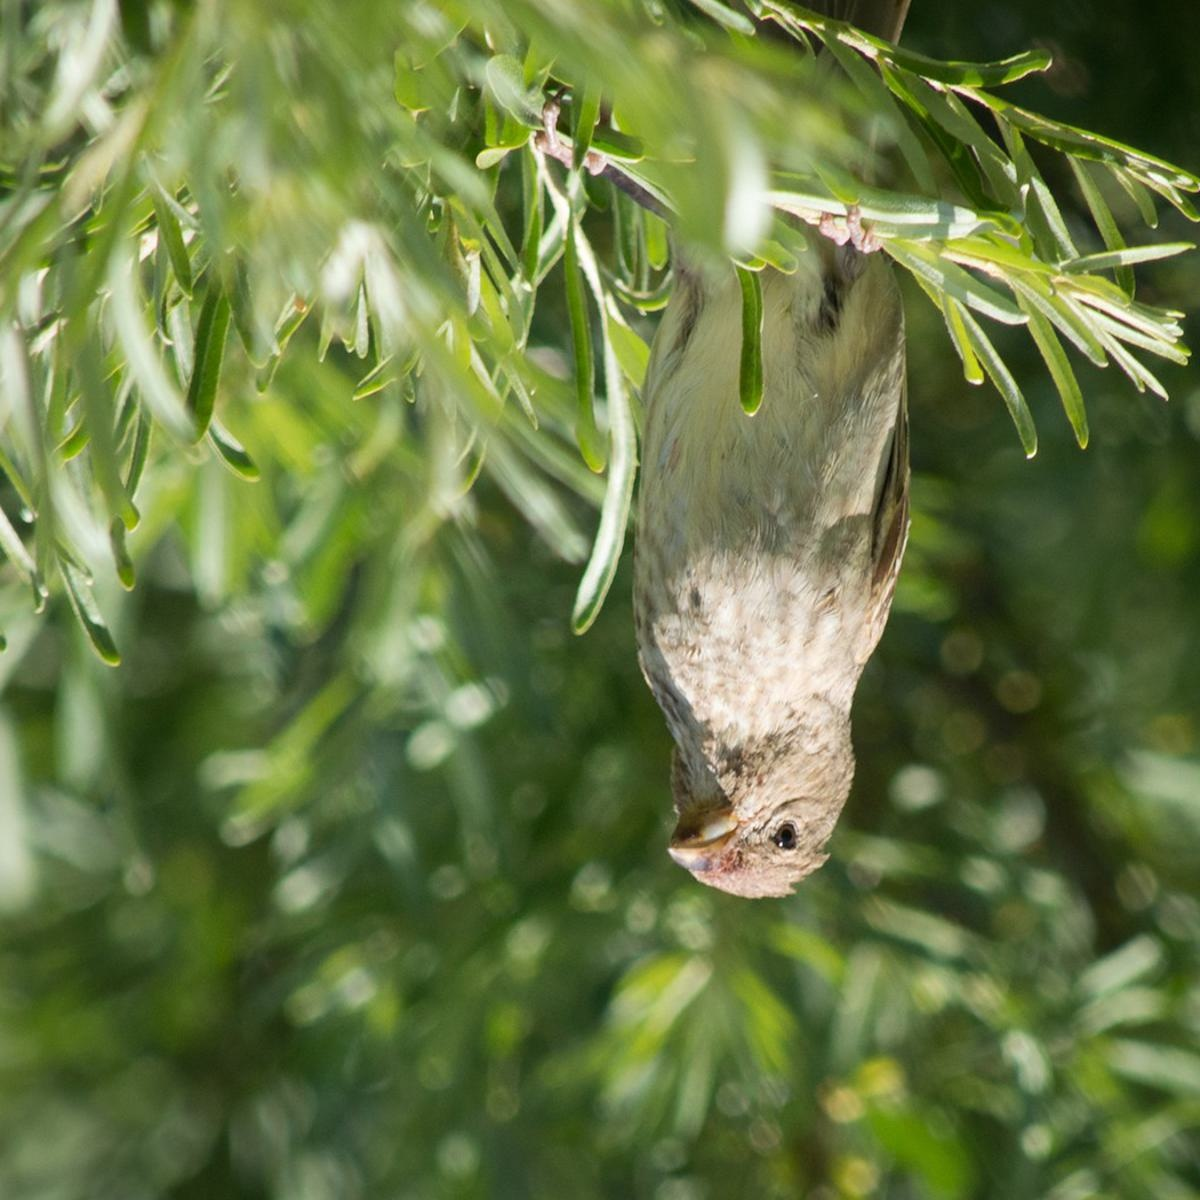rosefinch: (607, 196, 913, 915)
